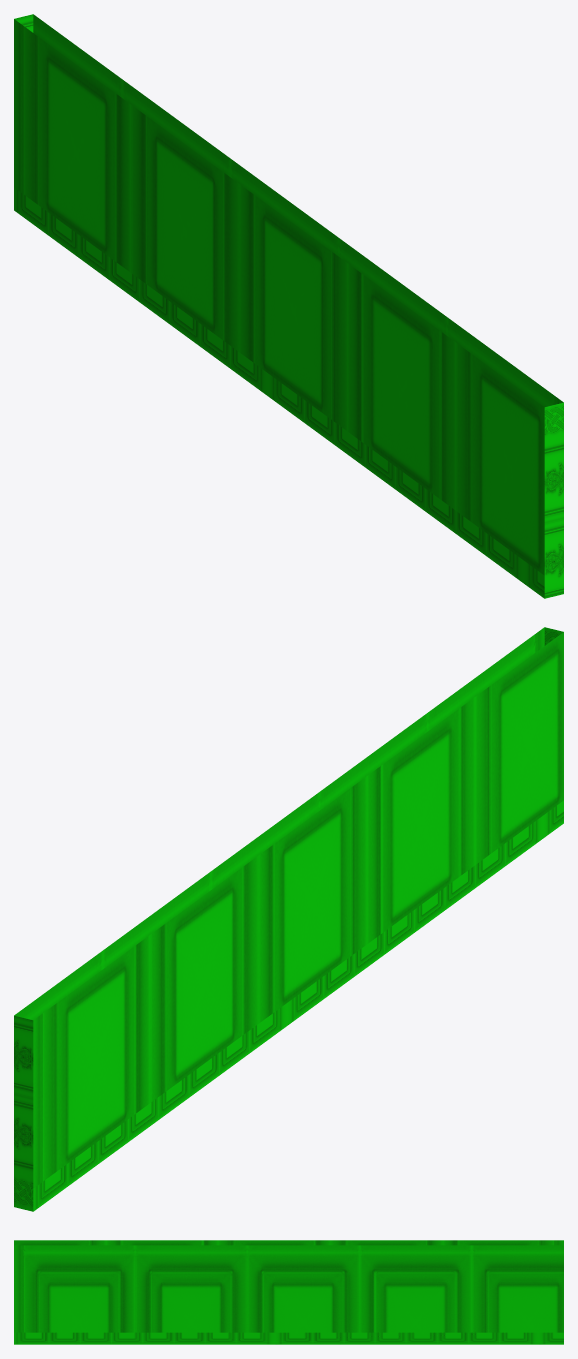
The picture shows the model from 3 angles, top to bottom: view 1: azimuth 30°, elevation 25°; view 2: azimuth 150°, elevation 25°; view 3: azimuth 270°, elevation 25°; orthographic projection. The views are drawn at different scales.
Visible parts, largest first — view 1: 복도 벽 2; view 2: 복도 벽 2; view 3: 복도 벽 2.
Boxes of the visible parts, bbox=[...] form: 복도 벽 2: bbox=[14, 14, 563, 598]; 복도 벽 2: bbox=[14, 627, 563, 1211]; 복도 벽 2: bbox=[14, 1240, 563, 1344].
Size of the model in its own units: 20.95 by 198 by 994.
